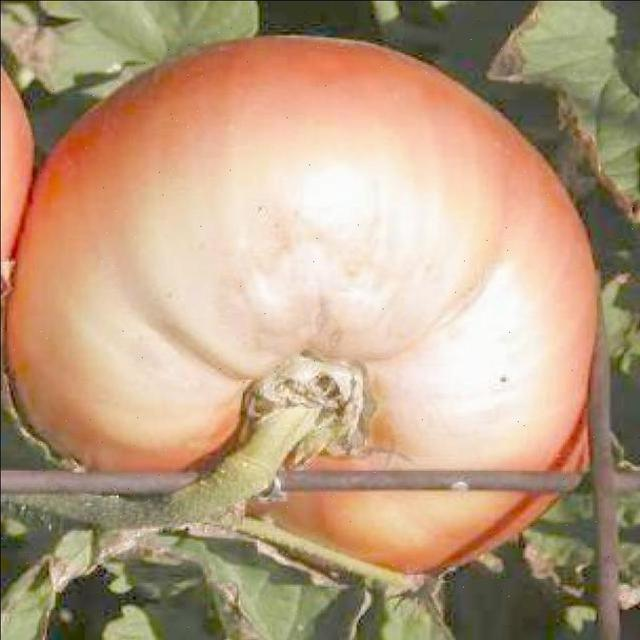Sunscald Fruit: (52, 76, 364, 304)
